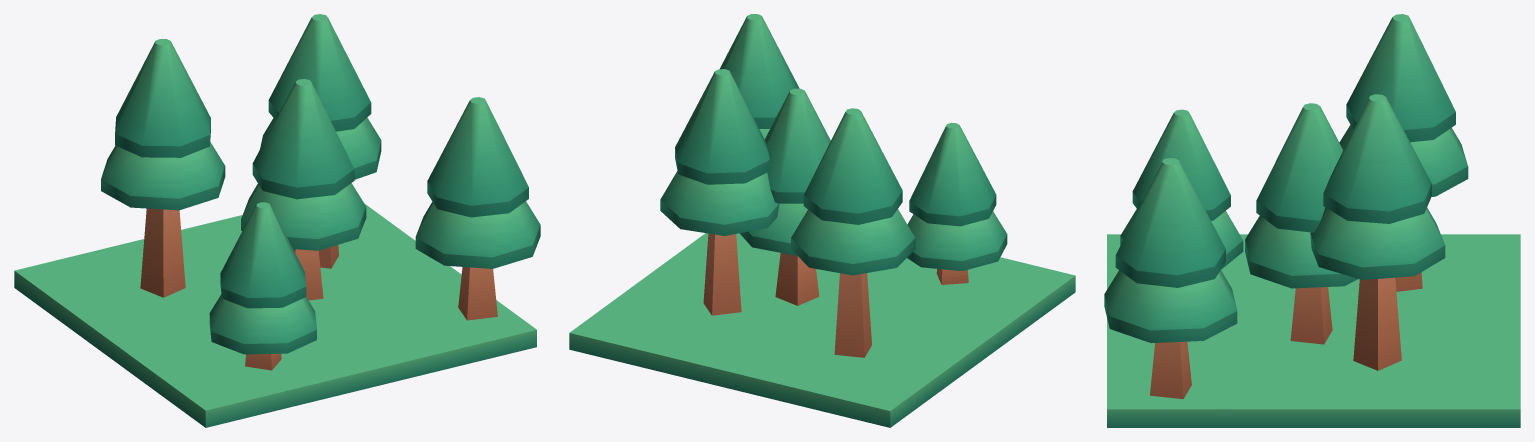
File: grass-trees-tall.glb
The picture shows the model from 3 angles, left to right: view 1: azimuth 30°, elevation 25°; view 2: azimuth 150°, elevation 25°; view 3: azimuth 270°, elevation 25°; orthographic projection. The views are drawn at different scales.
Visible parts, largest first — view 1: grass-trees-tall; view 2: grass-trees-tall; view 3: grass-trees-tall.
Boxes of the visible parts, x1,y1,x2,y2 form: grass-trees-tall: (14,14,540,427); grass-trees-tall: (569,14,1075,427); grass-trees-tall: (1104,14,1520,427).
Bounding box in the file's own units: 1.07 × 0.7596 × 1.01.
Materials: 1 (1 with a texture image).
